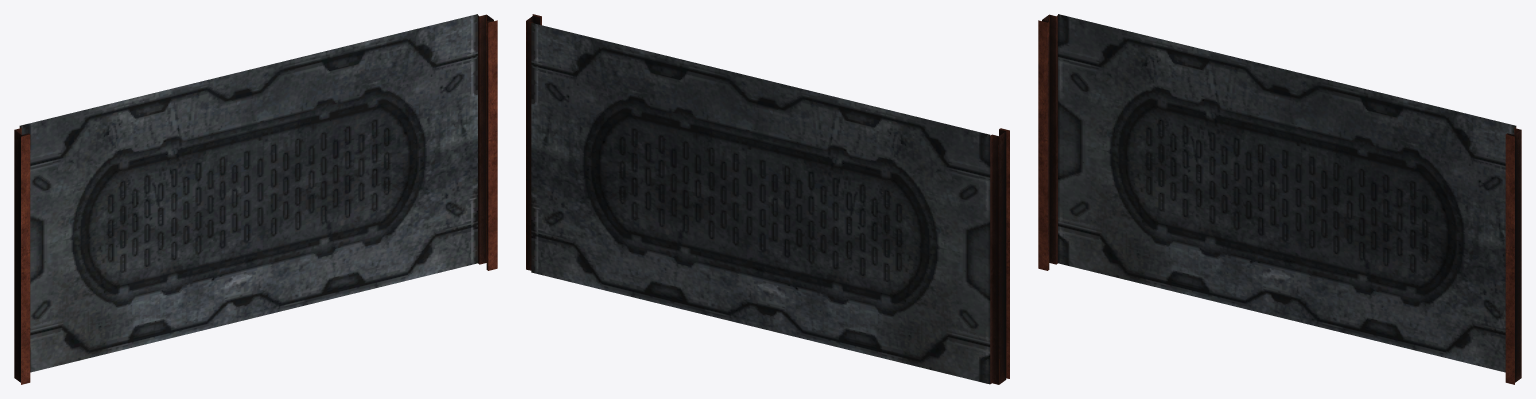
File: flat_extender.dae
3 views of the same model, side by side, from view 1: azimuth 30°, elevation 25°; view 2: azimuth 150°, elevation 25°; view 3: azimuth 330°, elevation 25° (orthographic).
Visible parts, largest first — view 1: polySurface720, polySurface719; view 2: polySurface720, polySurface719; view 3: polySurface720, polySurface719.
Boxes of the visible parts, x1,y1,x2,y2 form: polySurface720: (19, 14, 477, 372); polySurface719: (14, 14, 497, 384); polySurface720: (531, 23, 990, 384); polySurface719: (526, 14, 1009, 384); polySurface720: (1058, 14, 1516, 372); polySurface719: (1038, 14, 1521, 384).
Bounding box in the file's own units: 4 × 2 × 0.1506.
